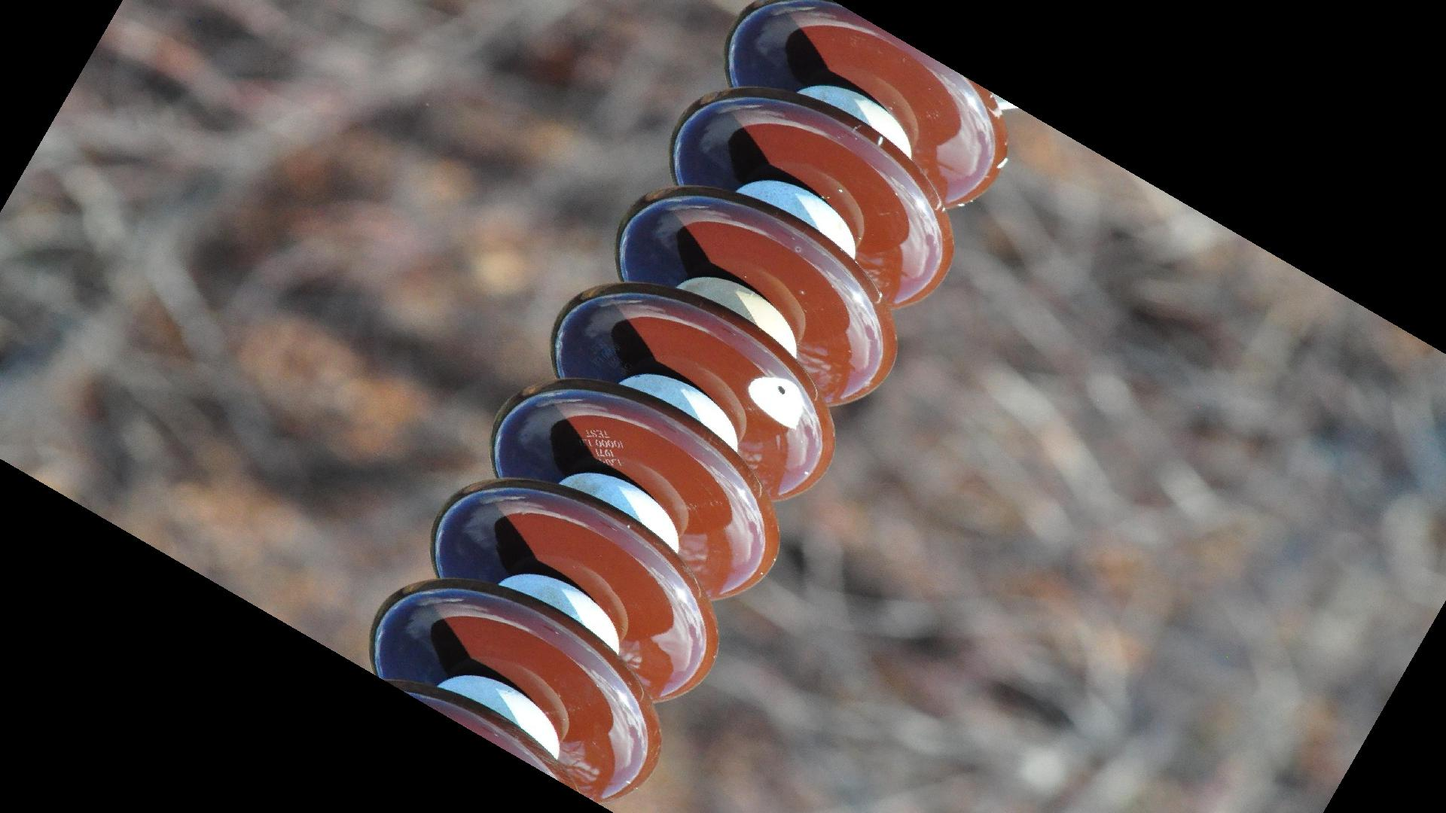insulator: (358, 1, 1023, 811)
insulator_breakage: (730, 366, 825, 450)
